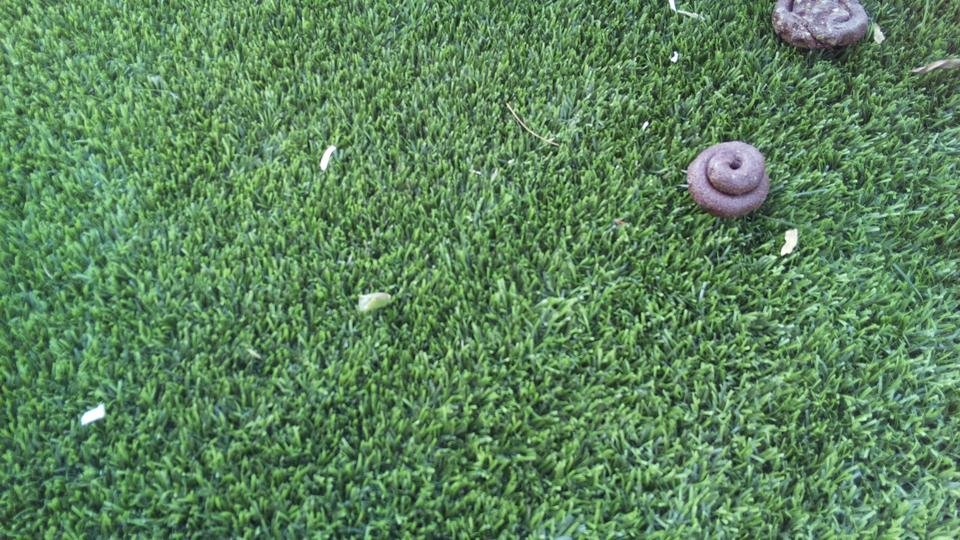poop: (686, 140, 771, 223), (770, 1, 871, 55)
